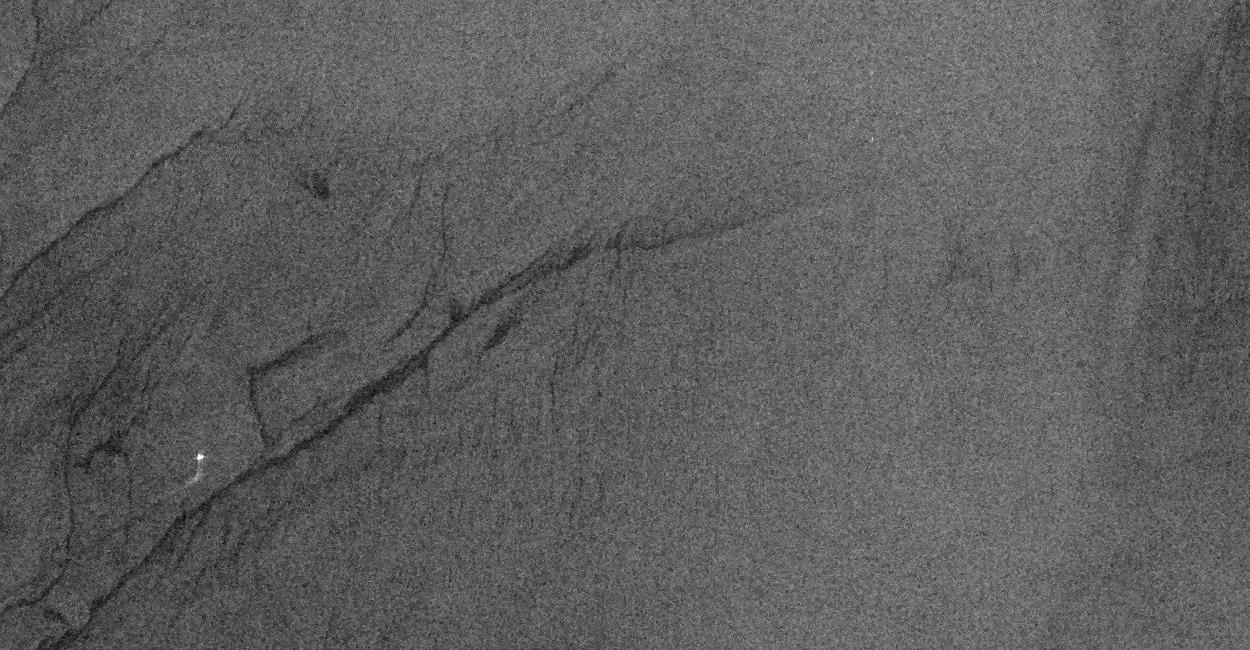Look-alike: (0, 0, 624, 650)
